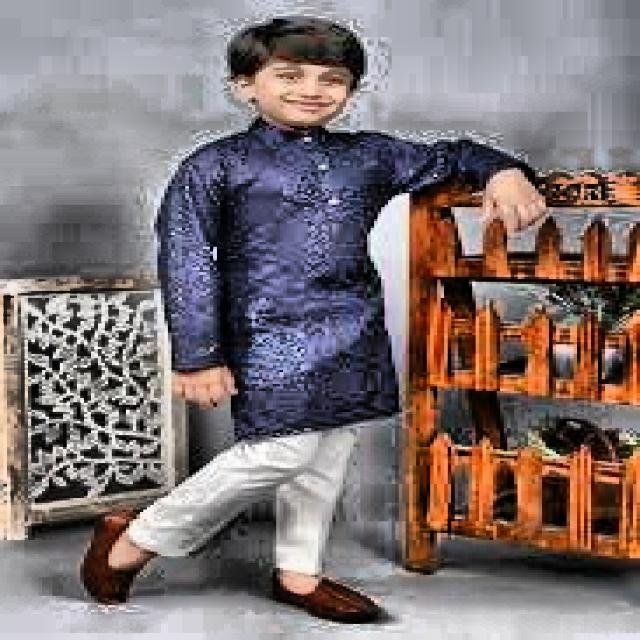Human: (133, 2, 549, 640)
